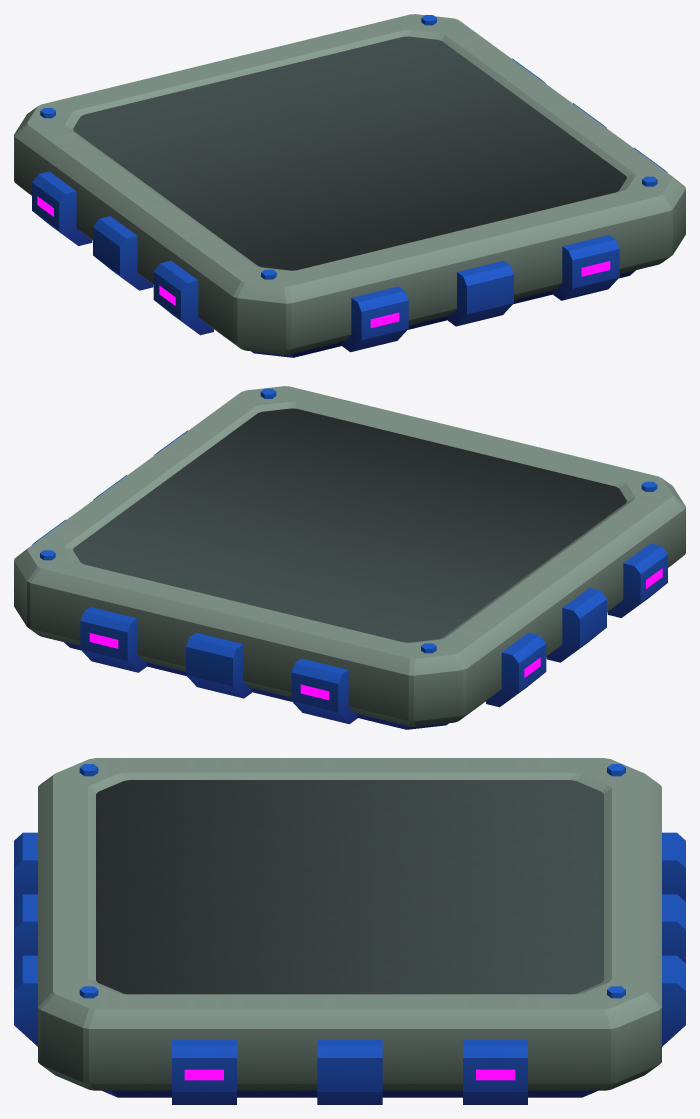
File: platform_002.fbx
3 views of the same model, one above another, from view 1: azimuth 30°, elevation 25°; view 2: azimuth 150°, elevation 25°; view 3: azimuth 270°, elevation 25° (orthographic). The views are drawn at different scales.
Parts seen in each view (by area): view 1: platform.002; view 2: platform.002; view 3: platform.002.
Boxes of the visible parts, <box> form: platform.002: <box>14,14,685,357</box>; platform.002: <box>14,386,685,729</box>; platform.002: <box>14,758,685,1104</box>.
Bounding box in the file's own units: 323 × 56.47 × 323.
